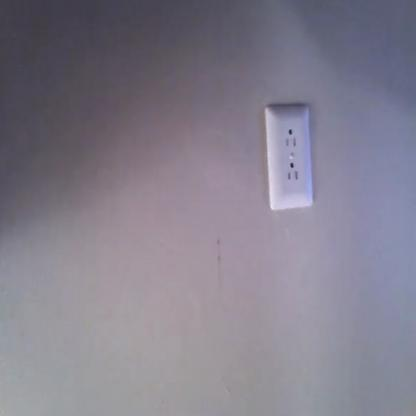OUTLET: (268, 106, 312, 209)
